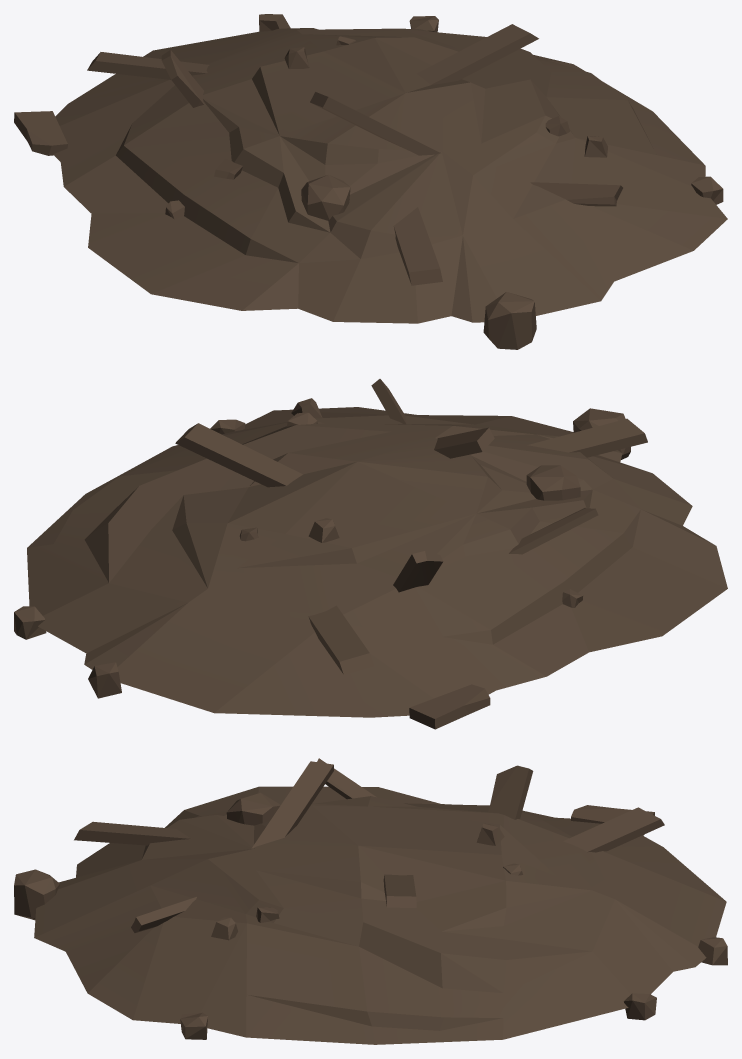
Rendered from SM_Prop_BurnPile_01.obj.
3 renders of one model, top to bottom at view 1: azimuth 30°, elevation 25°; view 2: azimuth 150°, elevation 25°; view 3: azimuth 270°, elevation 25°, orthographic. The views are drawn at different scales.
Parts seen in each view (by area): view 1: SM_Prop_BurnPile_01_0; view 2: SM_Prop_BurnPile_01_0; view 3: SM_Prop_BurnPile_01_0.
Boxes of the visible parts, x1=… form: SM_Prop_BurnPile_01_0: x1=14, y1=14, x2=727, y2=349; SM_Prop_BurnPile_01_0: x1=14, y1=379, x2=727, y2=729; SM_Prop_BurnPile_01_0: x1=14, y1=758, x2=727, y2=1044.
Bounding box in the file's own units: 4.52 × 1.15 × 5.28.
1 material, 1 textured.
